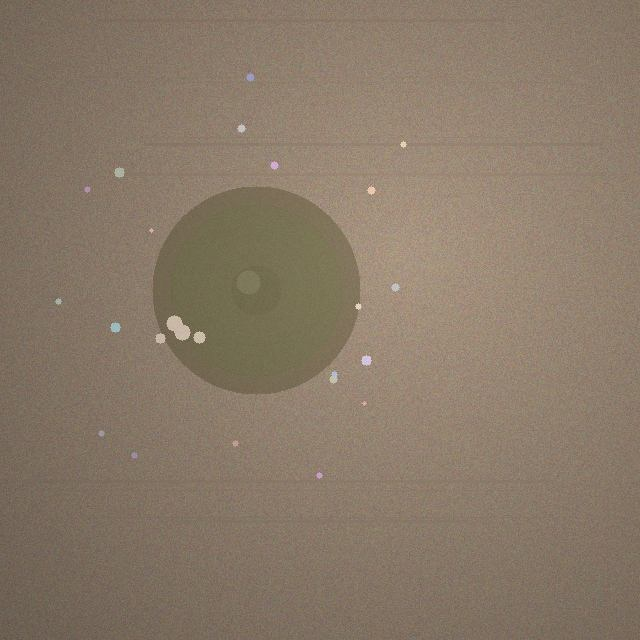overburn: (152, 186, 360, 394)
